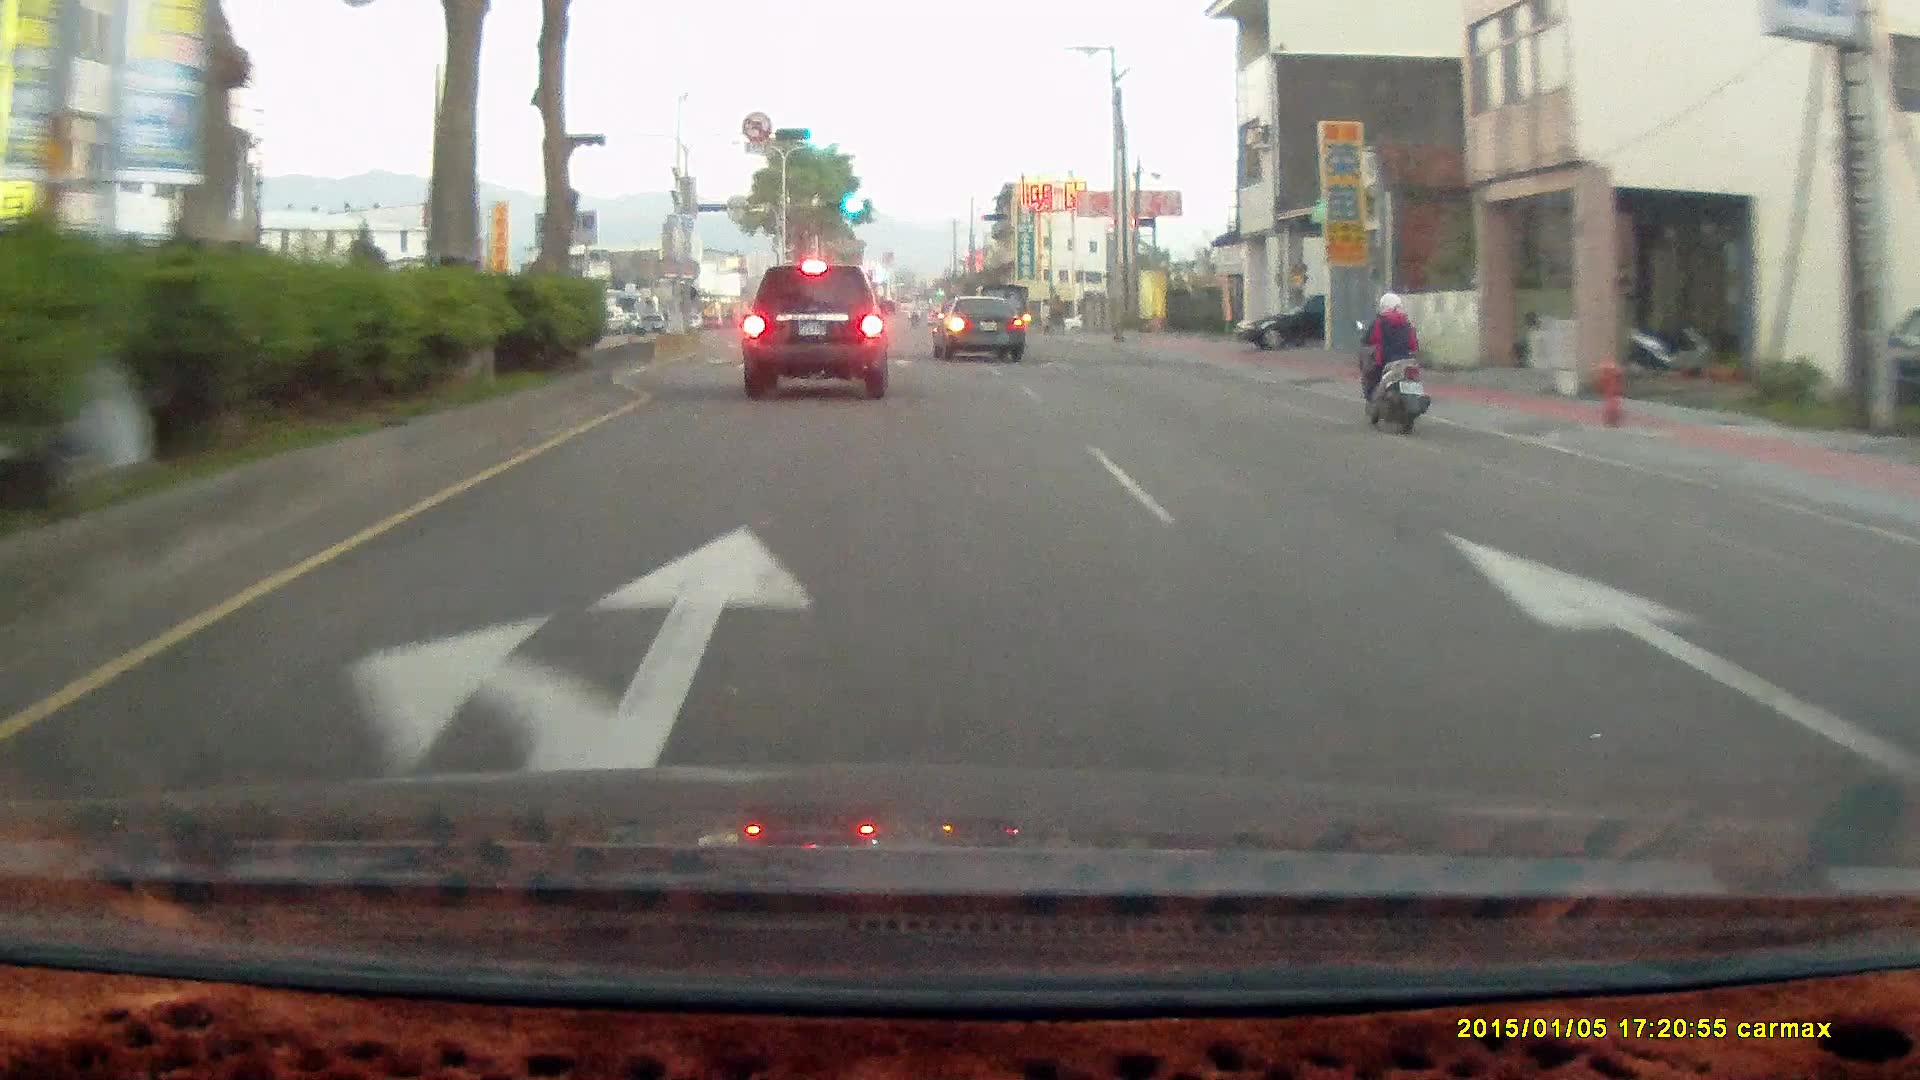rider: (1343, 278, 1445, 444), (1354, 289, 1431, 437)
vehicle: (734, 261, 889, 403), (742, 265, 895, 398), (1233, 290, 1407, 348), (1862, 302, 1920, 423), (937, 296, 1028, 362), (931, 294, 1023, 360), (1233, 292, 1332, 351)
